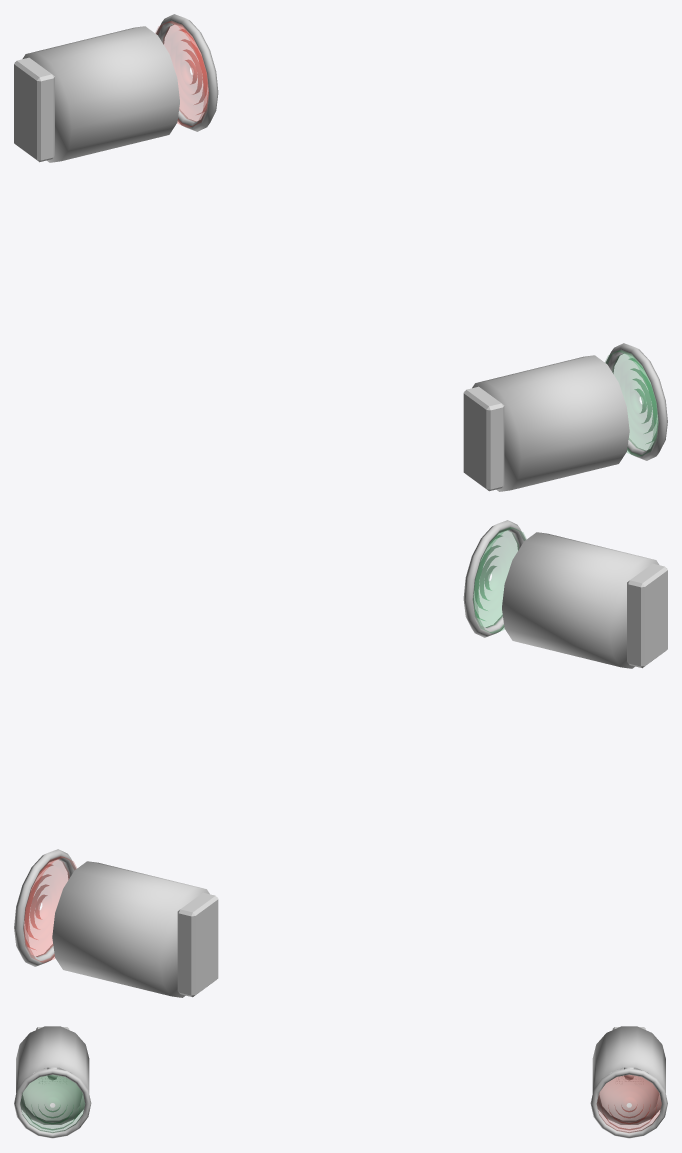
File: sidelights.glb
3 views of the same model, one above another, from view 1: azimuth 30°, elevation 25°; view 2: azimuth 150°, elevation 25°; view 3: azimuth 270°, elevation 25° (orthographic). The views are drawn at different scales.
Parts seen in each view (by area): view 1: Sidelights; view 2: Sidelights; view 3: Sidelights.
Boxes of the visible parts, box(x1,y1,x2,y2) form: Sidelights: box(14, 14, 667, 491); Sidelights: box(14, 520, 667, 997); Sidelights: box(14, 1026, 667, 1138).
Size of the model in its own units: 0.185 by 0.116 by 0.9803.
